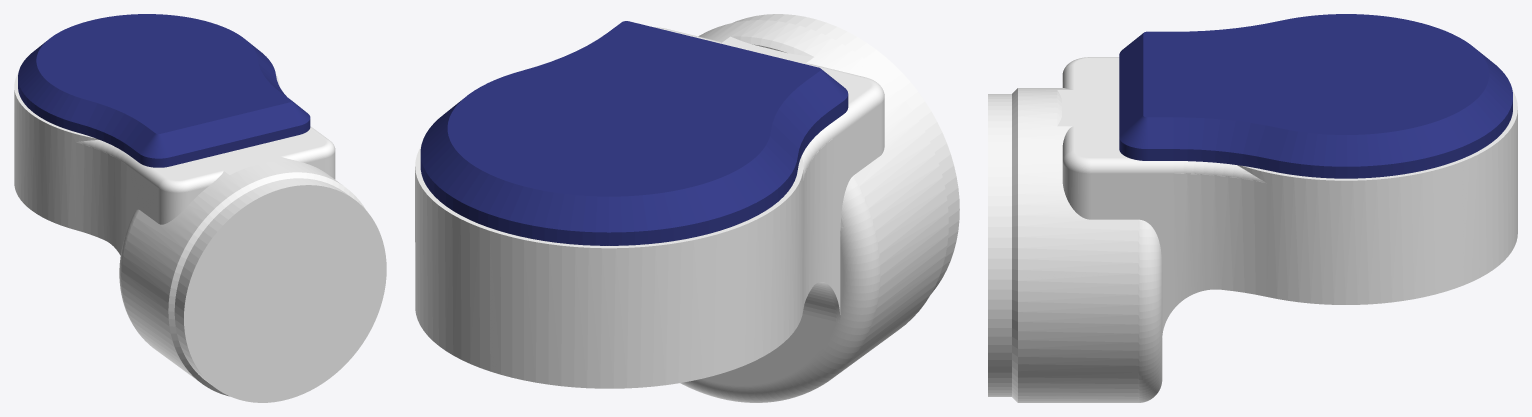
3 renders of one model, left to right at view 1: azimuth 30°, elevation 25°; view 2: azimuth 150°, elevation 25°; view 3: azimuth 270°, elevation 25°, orthographic. The views are drawn at different scales.
Visible parts, largest first — view 1: Link_L; view 2: Link_L; view 3: Link_L.
Boxes of the visible parts, left/top/right/bottom form: Link_L: left=14, top=14, right=386, bottom=402; Link_L: left=415, top=14, right=959, bottom=402; Link_L: left=988, top=14, right=1517, bottom=402.
Size of the model in its own units: 0.144 by 0.222 by 0.145.
1 material, 1 textured.
